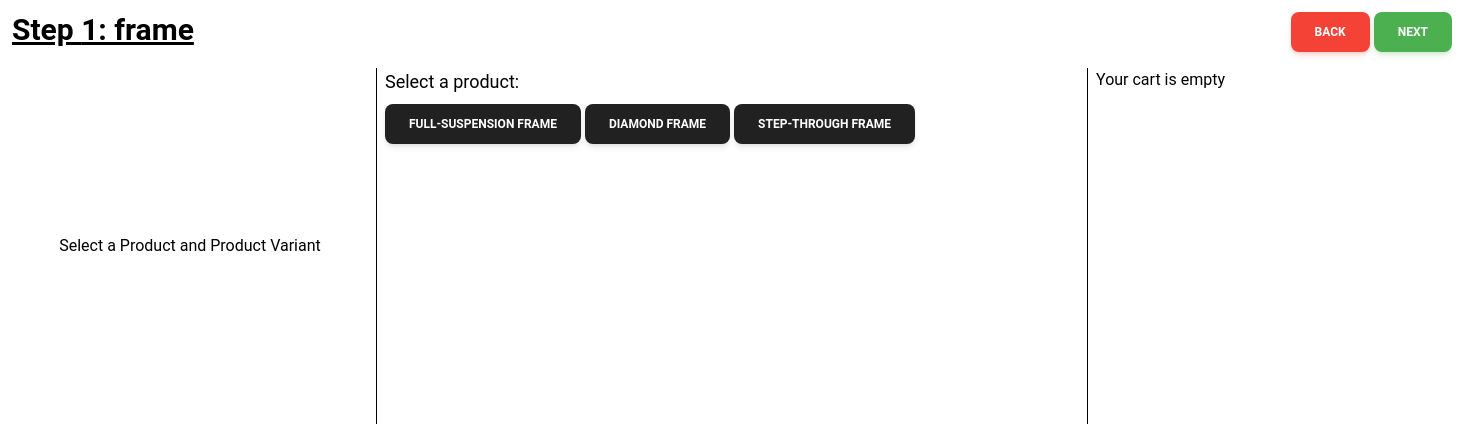
Scenario: BikeBuilder › should render product variants after selecting a product
Click the button "Diamond frame" at (658,124), box [585,104,730,144]
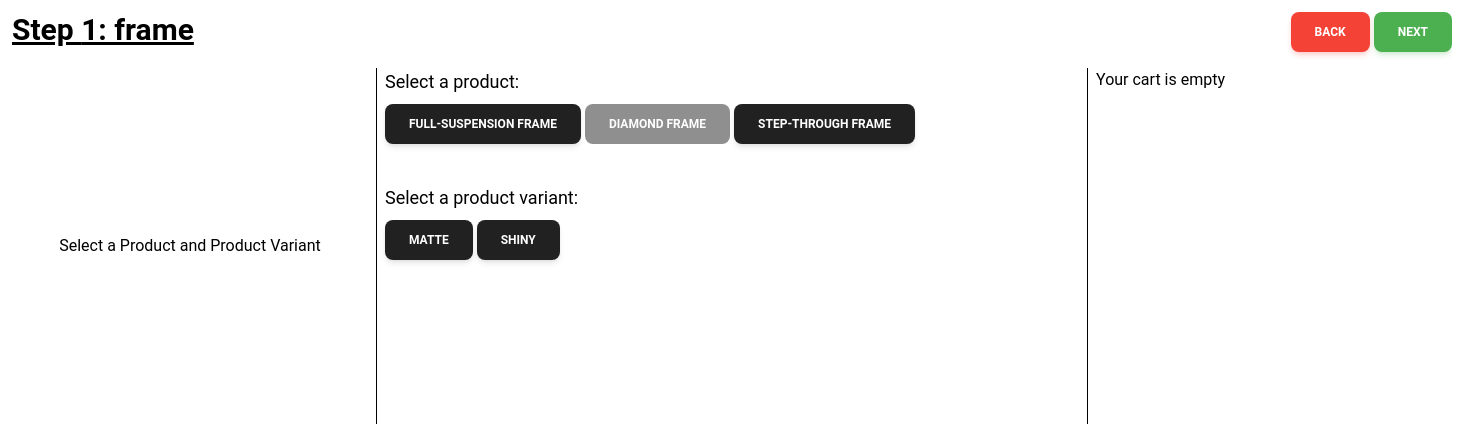
Expected: the number of buttons "Matte" is 2, [385,220,473,260]; [477,220,560,260]
